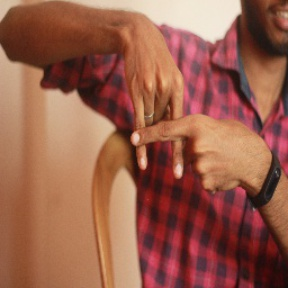H: (107, 65, 211, 192)
